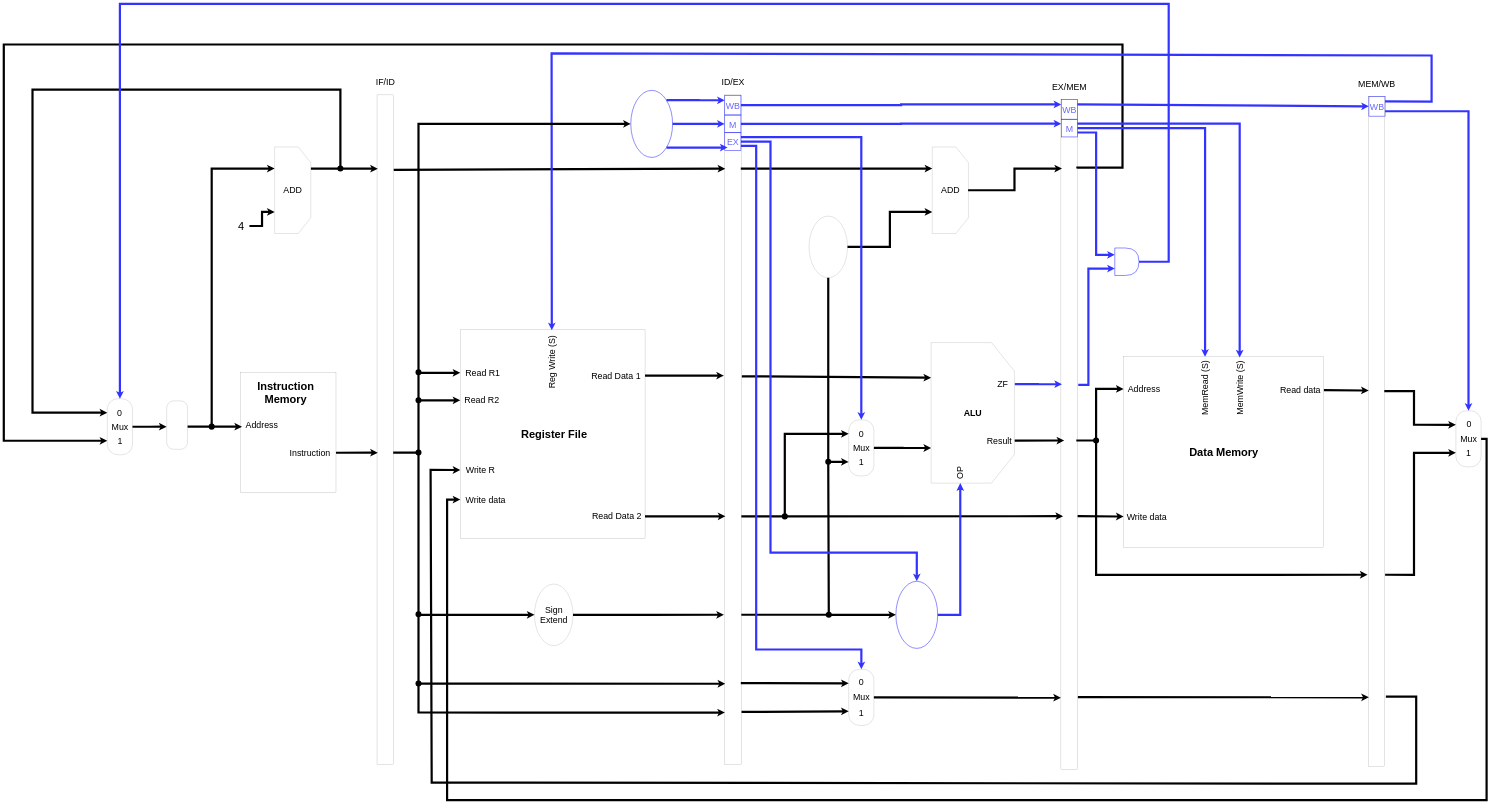
Image size: 1490x804. Some labels were removed from this diagram. The centre of each missing label's shape, as x and y in pixels:
ALU Control: the point at 917,615
Control: the point at 651,124
PC: the point at 177,425
Shift Left 2: the point at 828,247
